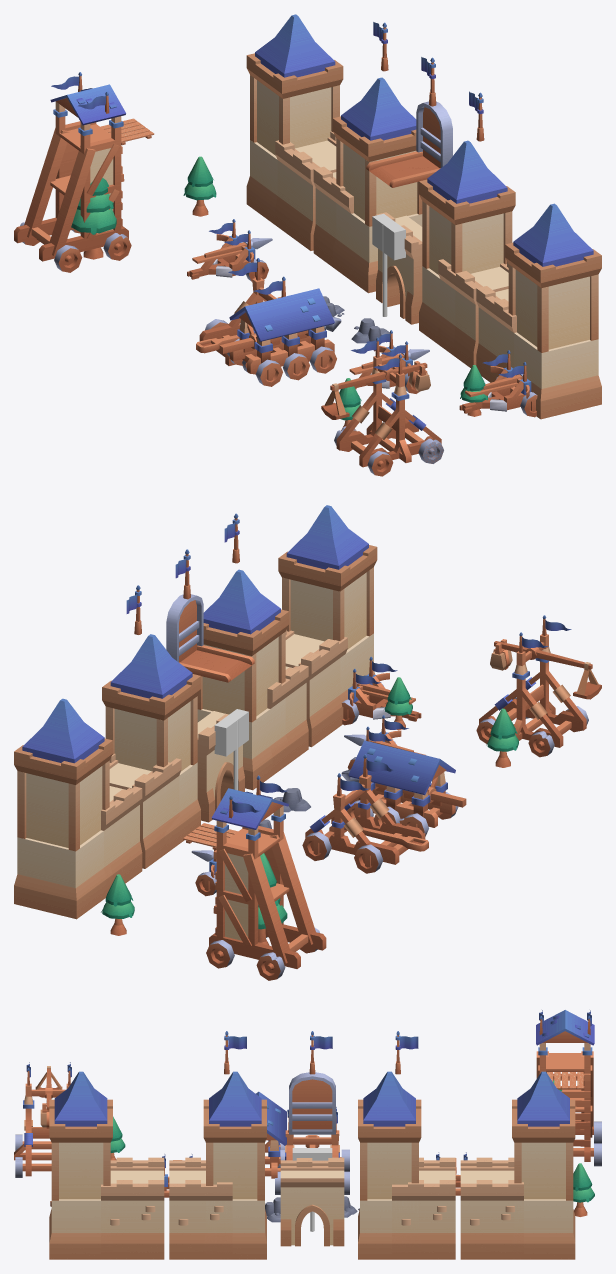
The model's file is paired-animation.glb.
The picture shows the model from 3 angles, top to bottom: view 1: azimuth 30°, elevation 25°; view 2: azimuth 150°, elevation 25°; view 3: azimuth 270°, elevation 25°; orthographic projection. The views are drawn at different scales.
Parts seen in each view (by area): view 1: tower_moving, tower_mid_1, ram_moving, tower_base_1, trebuchet_1, tower_roof_4, tower_roof_1, tower_roof_2, tower_mid_4, tower_mid_2, tower_roof_3, wall_right_outer (+19 smaller); view 2: tower_moving, tower_base_4, tower_mid_4, tower_mid_1, tower_roof_1, tower_roof_3, tower_roof_4, ram_moving, trebuchet_1, tower_mid_3, tower_roof_2, catapult_center (+22 smaller); view 3: wall_left_outer, wall_right_outer, wall_right_inner, wall_left_inner, tower_moving, wall_gate, tower_roof_1, tower_roof_2, tower_roof_4, tower_roof_3, tower_base_4, tower_base_1 (+16 smaller).
Boxes of the visible parts, bbox=[...] form: tower_moving: bbox=[14, 72, 154, 261]; tower_mid_1: bbox=[508, 264, 598, 352]; ram_moving: bbox=[229, 288, 334, 373]; tower_base_1: bbox=[514, 332, 601, 419]; trebuchet_1: bbox=[336, 337, 441, 467]; tower_roof_4: bbox=[246, 14, 343, 98]; tower_roof_1: bbox=[505, 203, 601, 288]; tower_roof_2: bbox=[419, 140, 515, 224]; tower_mid_4: bbox=[250, 75, 339, 155]; tower_mid_2: bbox=[422, 201, 512, 274]; tower_roof_3: bbox=[333, 77, 416, 161]; wall_right_outer: bbox=[275, 131, 336, 250]; tower_moving: bbox=[183, 775, 326, 968]; tower_base_4: bbox=[14, 830, 112, 919]; tower_mid_4: bbox=[17, 760, 109, 851]; tower_mid_1: bbox=[282, 567, 373, 649]; tower_roof_1: bbox=[278, 505, 377, 591]; tower_roof_3: bbox=[102, 634, 200, 720]; tower_roof_4: bbox=[14, 698, 112, 784]; ram_moving: bbox=[348, 740, 455, 827]; trebuchet_1: bbox=[479, 615, 586, 747]; tower_mid_3: bbox=[105, 696, 197, 771]; tower_roof_2: bbox=[203, 569, 289, 655]; catapult_center: bbox=[305, 754, 425, 864]; wall_left_outer: bbox=[101, 1157, 164, 1259]; wall_right_outer: bbox=[460, 1157, 523, 1259]; wall_right_inner: bbox=[392, 1157, 455, 1259]; wall_left_inner: bbox=[169, 1157, 232, 1259]; tower_moving: bbox=[536, 1010, 594, 1161]; wall_gate: bbox=[280, 1157, 344, 1246]; tower_roof_1: bbox=[49, 1071, 112, 1142]; tower_roof_2: bbox=[203, 1071, 266, 1142]; tower_roof_4: bbox=[512, 1071, 575, 1142]; tower_roof_3: bbox=[358, 1071, 421, 1142]; tower_base_4: bbox=[512, 1199, 575, 1259]; tower_base_1: bbox=[49, 1199, 112, 1259].
Size of what is drawn, in the model's own units: 6.89 by 5.85 by 13.73.
Materials: 16 (16 with a texture image).
